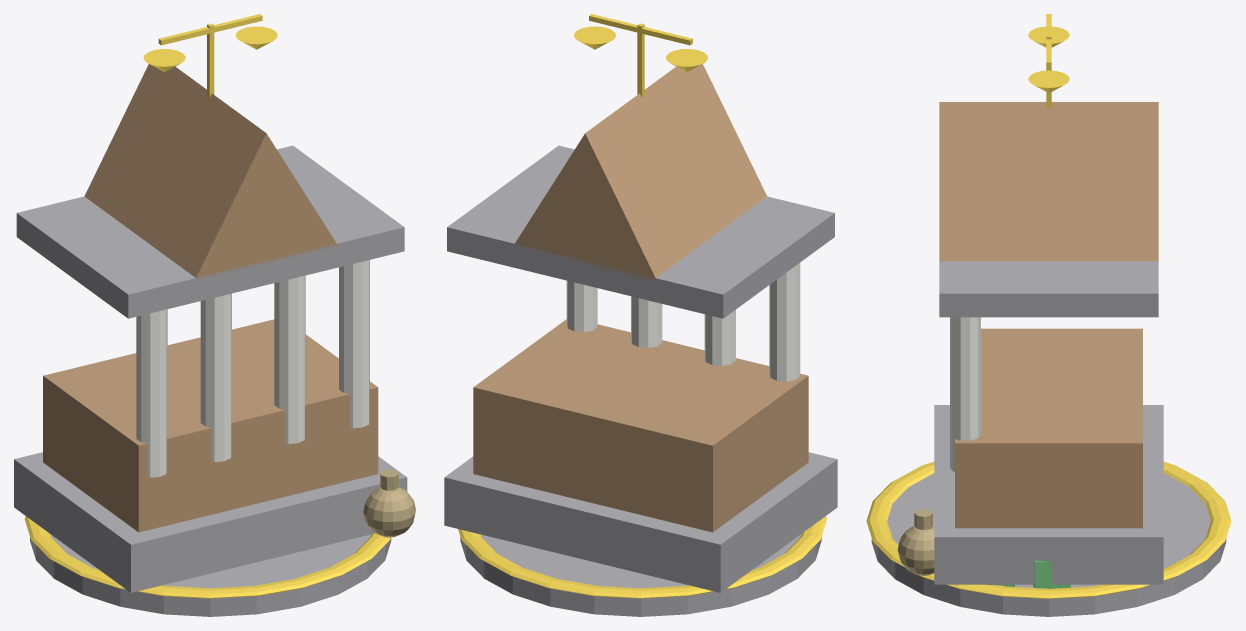
File: Tribunal_L2.fbx
3 views of the same model, side by side, from view 1: azimuth 30°, elevation 25°; view 2: azimuth 150°, elevation 25°; view 3: azimuth 270°, elevation 25° (orthographic).
Parts seen in each view (by area): view 1: Tribunal_L2.001; view 2: Tribunal_L2.001; view 3: Tribunal_L2.001.
Part boxes in pixels (x1,y1,x2,y2): Tribunal_L2.001: (14, 14, 415, 616); Tribunal_L2.001: (444, 14, 837, 616); Tribunal_L2.001: (866, 14, 1231, 616).
Size of the model in its own units: 3.5 by 5.35 by 3.5.
